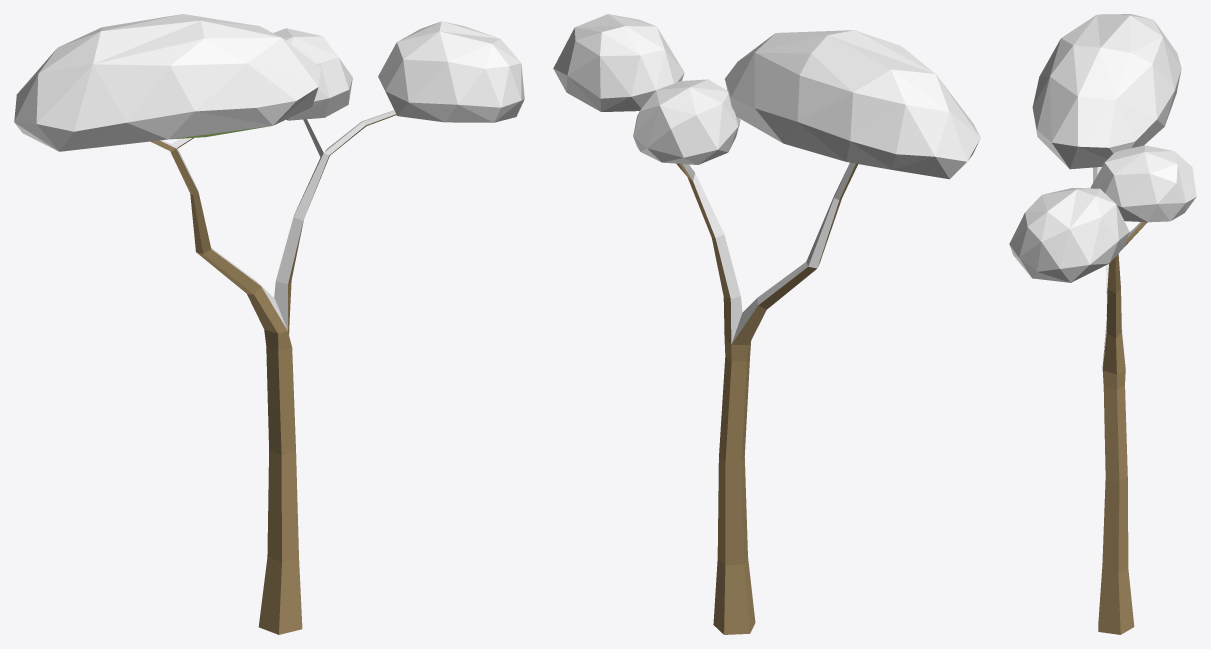
File: Acacia_Tree_s_Snow_BT_03.fbx
The picture shows the model from 3 angles, left to right: view 1: azimuth 30°, elevation 25°; view 2: azimuth 150°, elevation 25°; view 3: azimuth 270°, elevation 25°; orthographic projection. The views are drawn at different scales.
Visible parts, largest first — view 1: Acacia_Tree_s_Snow_BT_03; view 2: Acacia_Tree_s_Snow_BT_03; view 3: Acacia_Tree_s_Snow_BT_03.
Boxes of the visible parts, bbox=[...] form: Acacia_Tree_s_Snow_BT_03: bbox=[14, 14, 524, 634]; Acacia_Tree_s_Snow_BT_03: bbox=[553, 14, 980, 634]; Acacia_Tree_s_Snow_BT_03: bbox=[1009, 14, 1196, 634].
Bounding box in the file's own units: 504 × 657 × 206.
